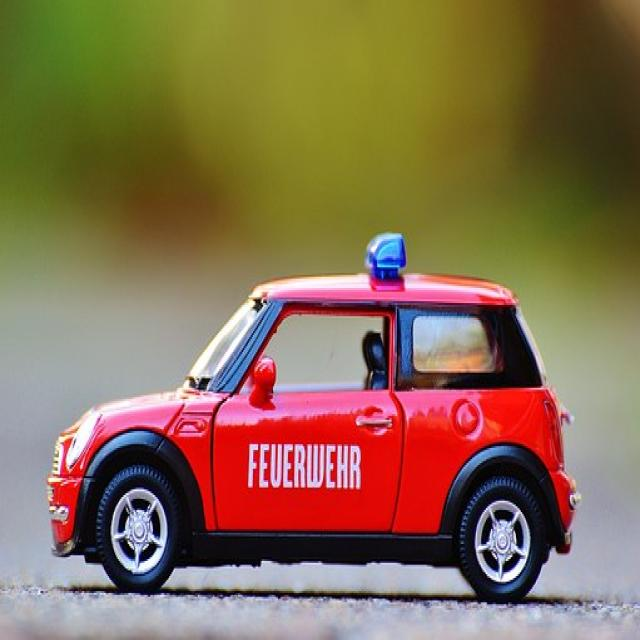Car: (45, 232, 580, 602)
